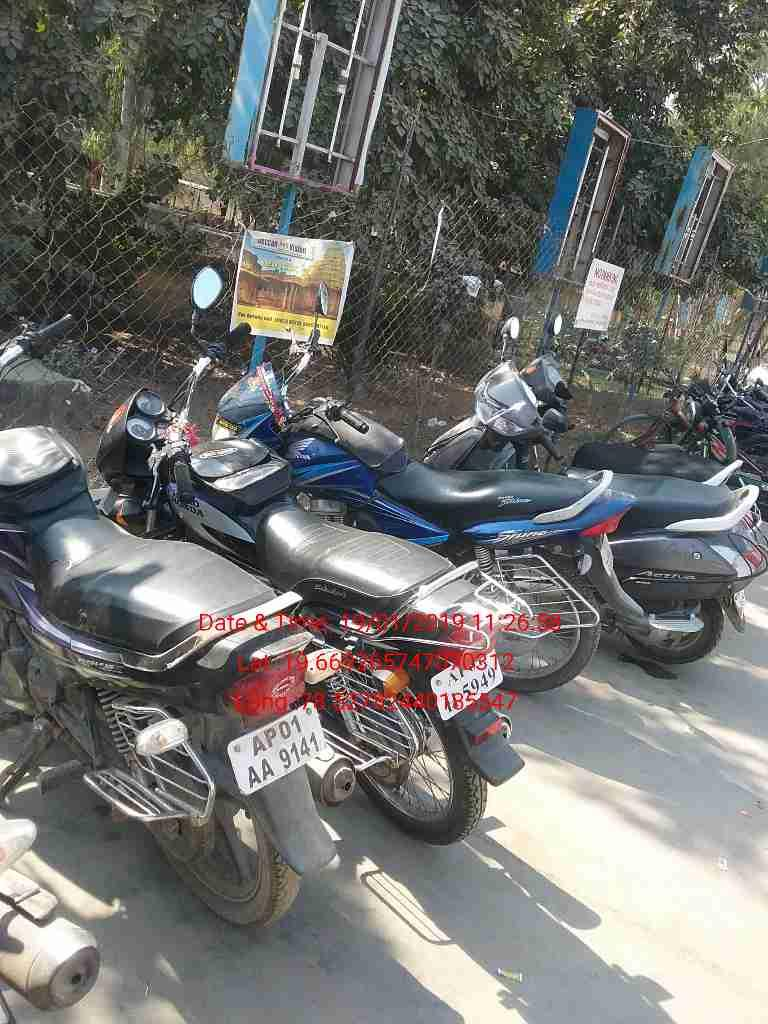plate: (221, 705, 333, 792)
